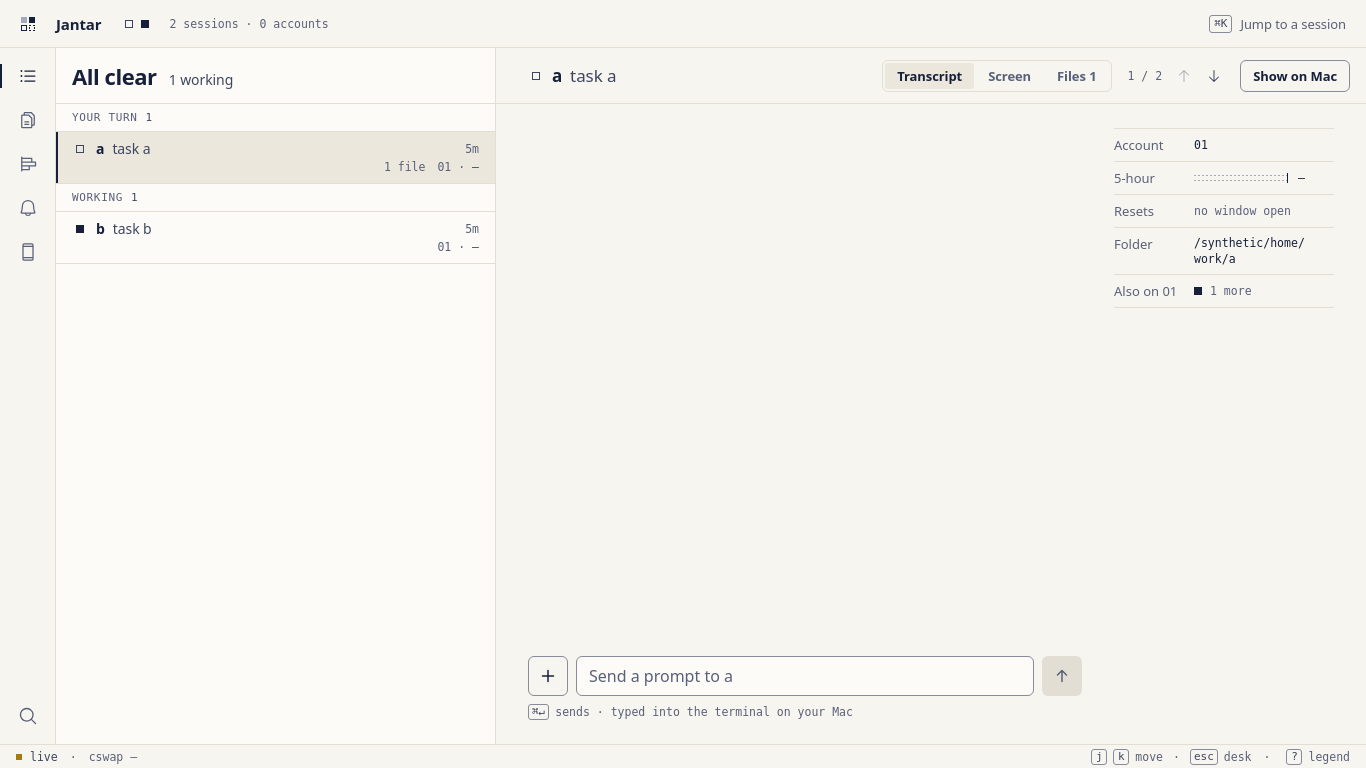
Test: a session's Files tab › asks again after this session's write, not another session's
This screenshot has width=1366, height=768.
Click the tab "Files 1" at (1077, 76), box [1045,62,1108,88]
Wait 1650 ms
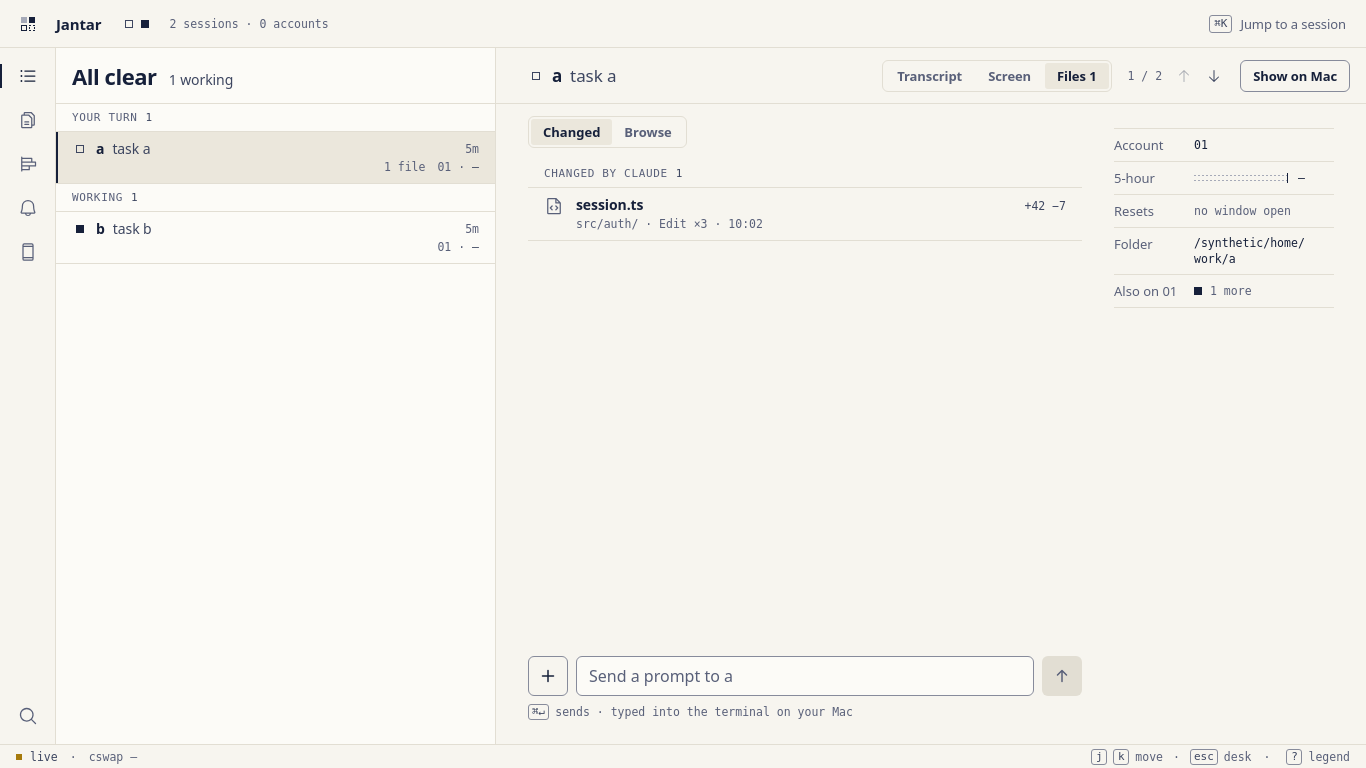
expect the list named "Files this session changed" is shown: met, box [528,160,1082,241]
